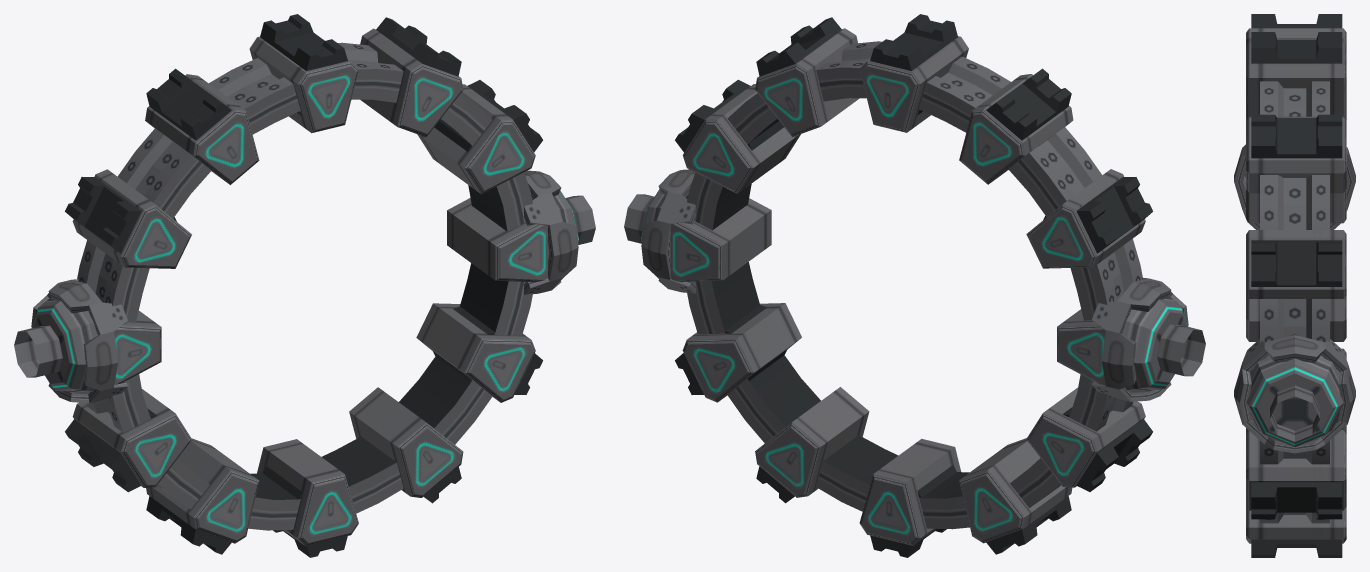
Rendered from SM_Bld_Warpgate_01_OuterRing_01.glb.
3 renders of one model, left to right at view 1: azimuth 30°, elevation 25°; view 2: azimuth 150°, elevation 25°; view 3: azimuth 270°, elevation 25°, orthographic.
Visible parts, largest first — view 1: SM_Bld_Warpgate_01_OuterRing_01; view 2: SM_Bld_Warpgate_01_OuterRing_01; view 3: SM_Bld_Warpgate_01_OuterRing_01.
Part boxes in pixels (box(x1,y1,x2,y2)): SM_Bld_Warpgate_01_OuterRing_01: box(14, 14, 595, 557); SM_Bld_Warpgate_01_OuterRing_01: box(624, 14, 1205, 557); SM_Bld_Warpgate_01_OuterRing_01: box(1234, 14, 1355, 557).
Bounding box in the file's own units: 7.32 × 6.31 × 1.42.
Materials: 1 (1 with a texture image).
